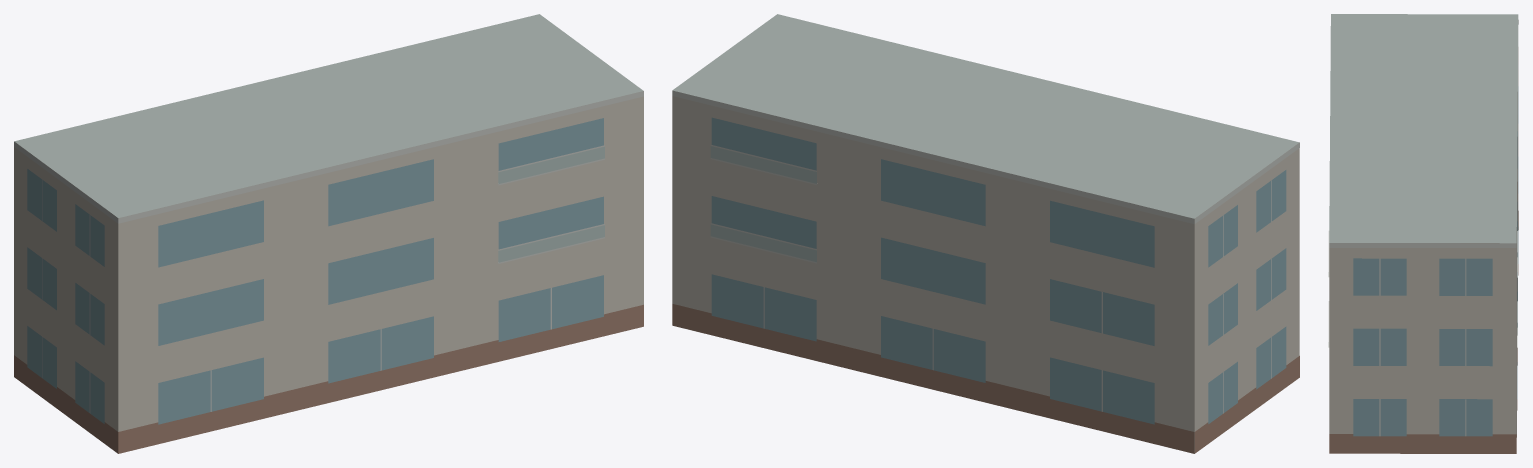
The model's file is survey-upis-32836686.glb.
The picture shows the model from 3 angles, left to right: view 1: azimuth 30°, elevation 25°; view 2: azimuth 150°, elevation 25°; view 3: azimuth 270°, elevation 25°; orthographic projection. The views are drawn at different scales.
Visible parts, largest first — view 1: survey-upis-32836686.tmp; view 2: survey-upis-32836686.tmp; view 3: survey-upis-32836686.tmp.
Part boxes in pixels (box(x1,y1,x2,y2)): survey-upis-32836686.tmp: box(14, 14, 643, 453); survey-upis-32836686.tmp: box(672, 14, 1299, 453); survey-upis-32836686.tmp: box(1328, 14, 1518, 453).
Size of the model in its own units: 24.26 by 10.4 by 8.5.
